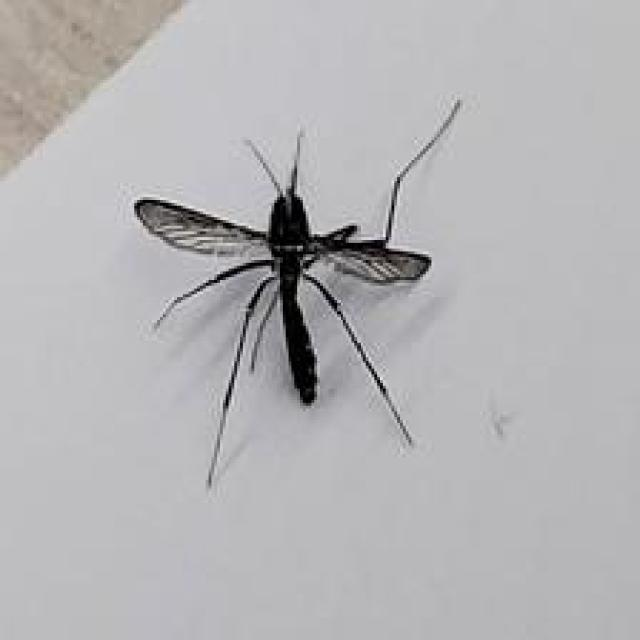Aedes albopictus: (131, 96, 463, 487)
